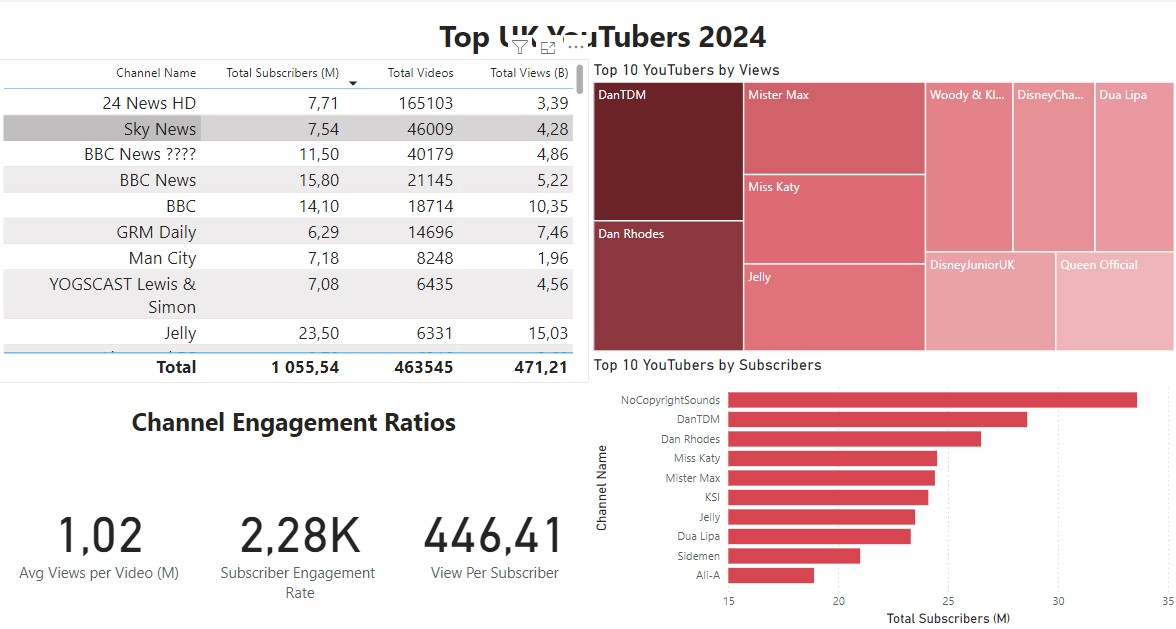

What the dashboard file says about the page in this screenshot:
{"tool":"powerbi","page":{"name":"Top UK Youtubers 2024","canvas":[1280,720],"ordinal":0},"visuals":[{"type":"textbox","box":[425,48.2,460.8,53.1],"z":0},{"type":"tableEx","fields":{"Values":["view_uk_youtubers_2024.channel_name","view_uk_youtubers_2024.Total Subscribers (M)","view_uk_youtubers_2024.Total Videos","view_uk_youtubers_2024.Total Views (B)"]},"box":[0,101.3,640,350.9],"z":1000},{"type":"treemap","title":"Top 10 YouTubers by Views","fields":{"Group":["view_uk_youtubers_2024.channel_name"],"Values":["view_uk_youtubers_2024.Total Views (B)"]},"box":[640.6,101.4,639.4,320.3],"z":2000},{"type":"card","fields":{"Values":["view_uk_youtubers_2024.Avg Views per Video (M)"]},"box":[0,519.4,218.9,200.3],"z":2001},{"type":"card","fields":{"Values":["view_uk_youtubers_2024.Subscriber Engagement Rate"]},"box":[218.9,519.4,216.4,200.3],"z":2002},{"type":"card","fields":{"Values":["view_uk_youtubers_2024.View Per Subscriber"]},"box":[435.3,519.4,205.3,200.3],"z":2003},{"type":"clusteredBarChart","title":"Top 10 YouTubers by Subscribers","fields":{"Category":["view_uk_youtubers_2024.channel_name"],"Y":["view_uk_youtubers_2024.Total Subscribers (M)"]},"box":[640.6,421.7,639.4,298],"z":2004},{"type":"textbox","box":[0,452.6,640.6,66.8],"z":2005}]}

Visuals, with their boxes on the page's 1280x720 design canvas (x1, y1, x2, y2). These are canvas units, not pixel positions in the 1176x629 screenshot, which may show the page scaled, cropped or inside an application window:
textbox: [x1=425, y1=48, x2=886, y2=101]
tableEx - view_uk_youtubers_2024.channel_name x view_uk_youtubers_2024.Total Subscribers (M): [x1=0, y1=101, x2=640, y2=452]
"Top 10 YouTubers by Views" treemap: [x1=641, y1=101, x2=1280, y2=422]
card - view_uk_youtubers_2024.Avg Views per Video (M): [x1=0, y1=519, x2=219, y2=720]
card - view_uk_youtubers_2024.Subscriber Engagement Rate: [x1=219, y1=519, x2=435, y2=720]
card - view_uk_youtubers_2024.View Per Subscriber: [x1=435, y1=519, x2=641, y2=720]
"Top 10 YouTubers by Subscribers" clusteredBarChart: [x1=641, y1=422, x2=1280, y2=720]
textbox: [x1=0, y1=453, x2=641, y2=519]
